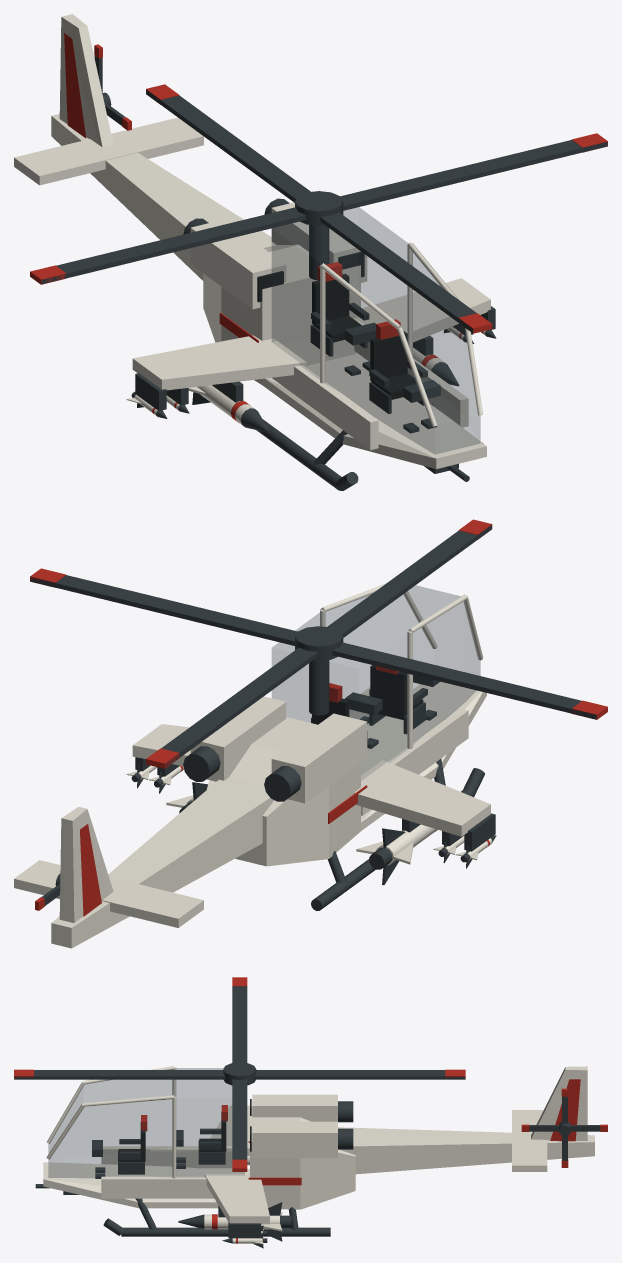
3 views of the same model, one above another, from view 1: azimuth 30°, elevation 25°; view 2: azimuth 150°, elevation 25°; view 3: azimuth 270°, elevation 25° (orthographic). The views are drawn at different scales.
Visible parts, largest first — view 1: helicopter-fleet-armor, helicopter-fleet-glass, helicopter-fleet-machine, blade-arm-2-painted, blade-arm-0-painted, crew-chair-gunner-painted, blade-arm-3-painted, blade-arm-1-painted, crew-chair-pilot-painted, helicopter-fleet-red, store-left-large-painted, rotor-main-fleet-machine (+2 smaller); view 2: helicopter-fleet-armor, helicopter-fleet-glass, helicopter-fleet-machine, blade-arm-2-painted, blade-arm-0-painted, blade-arm-1-painted, blade-arm-3-painted, crew-chair-gunner-painted, store-left-large-painted, helicopter-fleet-red, crew-chair-pilot-painted, rotor-main-fleet-machine; view 3: helicopter-fleet-armor, helicopter-fleet-glass, helicopter-fleet-machine, blade-arm-1-painted, blade-arm-3-painted, blade-arm-0-painted, crew-chair-pilot-painted, crew-chair-gunner-painted, blade-arm-2-painted, store-right-large-painted, helicopter-fleet-red, rotor-main-fleet-machine.
Boxes of the visible parts, bbox=[...] form: helicopter-fleet-armor: bbox=[14, 14, 490, 469]; helicopter-fleet-glass: bbox=[272, 207, 480, 454]; helicopter-fleet-machine: bbox=[135, 198, 495, 490]; blade-arm-2-painted: bbox=[30, 207, 306, 284]; blade-arm-0-painted: bbox=[340, 133, 607, 210]; crew-chair-gunner-painted: bbox=[369, 319, 440, 433]; blade-arm-3-painted: bbox=[320, 212, 492, 333]; blade-arm-1-painted: bbox=[146, 84, 310, 202]; crew-chair-pilot-painted: bbox=[310, 262, 375, 375]; helicopter-fleet-red: bbox=[64, 33, 258, 342]; store-left-large-painted: bbox=[188, 385, 269, 432]; rotor-main-fleet-machine: bbox=[295, 191, 343, 225]; helicopter-fleet-armor: bbox=[14, 583, 490, 948]; helicopter-fleet-glass: bbox=[272, 585, 480, 780]; helicopter-fleet-machine: bbox=[135, 660, 495, 910]; blade-arm-2-painted: bbox=[332, 642, 607, 719]; blade-arm-0-painted: bbox=[30, 568, 297, 645]; blade-arm-1-painted: bbox=[146, 647, 317, 768]; blade-arm-3-painted: bbox=[327, 519, 492, 637]; crew-chair-gunner-painted: bbox=[369, 665, 439, 734]; store-left-large-painted: bbox=[356, 824, 437, 885]; helicopter-fleet-red: bbox=[80, 785, 367, 916]; crew-chair-pilot-painted: bbox=[311, 683, 382, 748]; rotor-main-fleet-machine: bbox=[295, 626, 343, 660]; helicopter-fleet-armor: bbox=[43, 1066, 594, 1224]; helicopter-fleet-glass: bbox=[48, 1068, 244, 1177]; helicopter-fleet-machine: bbox=[103, 1101, 353, 1238]; blade-arm-1-painted: bbox=[254, 1069, 465, 1079]; blade-arm-3-painted: bbox=[14, 1069, 225, 1079]; blade-arm-0-painted: bbox=[232, 1079, 247, 1171]; crew-chair-pilot-painted: bbox=[176, 1105, 227, 1168]; crew-chair-gunner-painted: bbox=[92, 1115, 147, 1178]; blade-arm-2-painted: bbox=[232, 977, 247, 1062]; store-right-large-painted: bbox=[178, 1202, 291, 1241]; helicopter-fleet-red: bbox=[248, 1079, 580, 1185]; rotor-main-fleet-machine: bbox=[223, 1062, 256, 1085].
Bounding box in the file's own units: 50.42 × 18.06 × 66.32.
